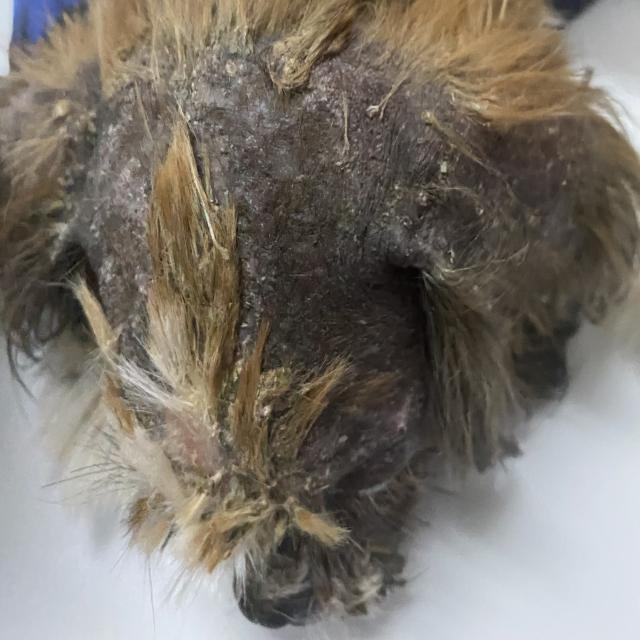demodicosis: (273, 37, 575, 254), (3, 16, 272, 243), (250, 265, 438, 530), (102, 261, 238, 486)
